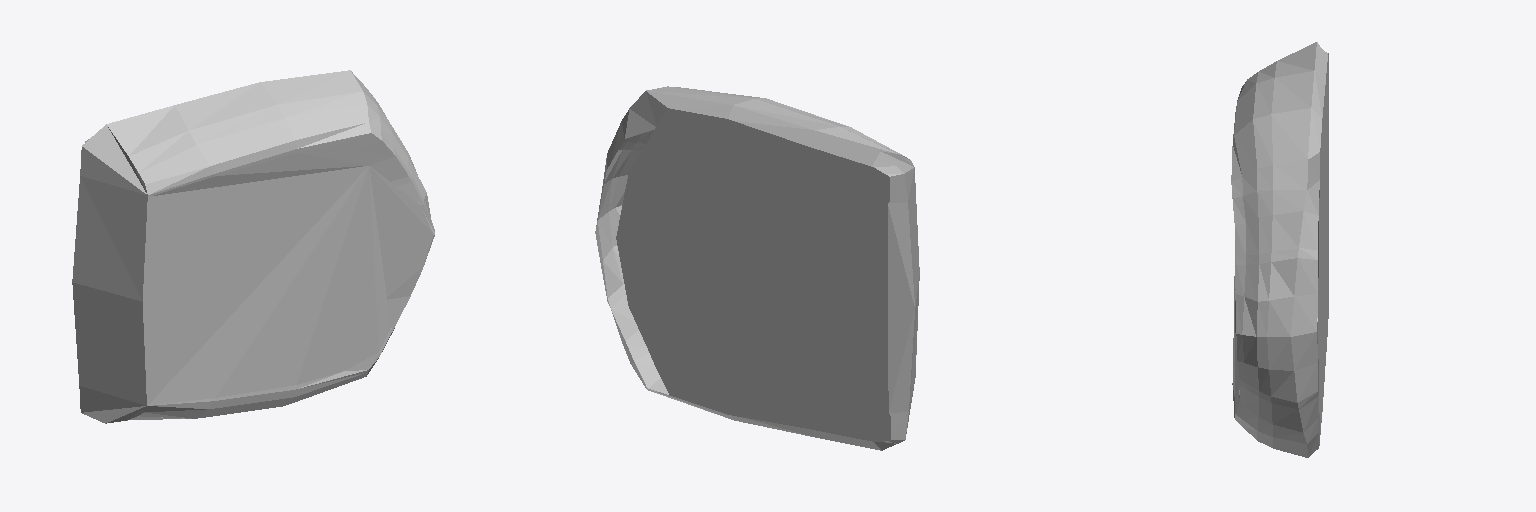
File: TankTop8.obj
3 views of the same model, side by side, from view 1: azimuth 30°, elevation 25°; view 2: azimuth 150°, elevation 25°; view 3: azimuth 270°, elevation 25° (orthographic).
Parts seen in each view (by area): view 1: Plane.000_Plane.000; view 2: Plane.000_Plane.000; view 3: Plane.000_Plane.000.
Boxes of the visible parts, x1=… form: Plane.000_Plane.000: x1=72, y1=70, x2=434, y2=423; Plane.000_Plane.000: x1=595, y1=86, x2=919, y2=450; Plane.000_Plane.000: x1=1231, y1=42, x2=1328, y2=457.
Bounding box in the file's own units: 10.04 × 9.14 × 2.56.